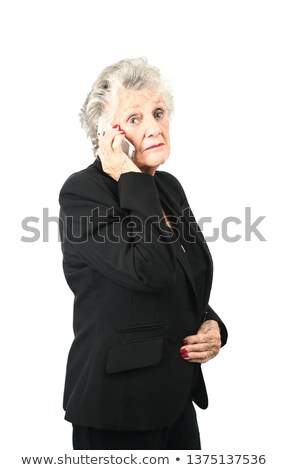phone: (93, 123, 136, 172)
talk: (88, 103, 174, 181)
